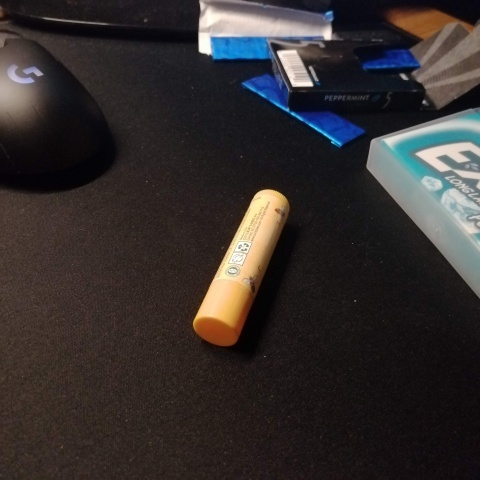chapstick: (191, 187, 292, 347)
